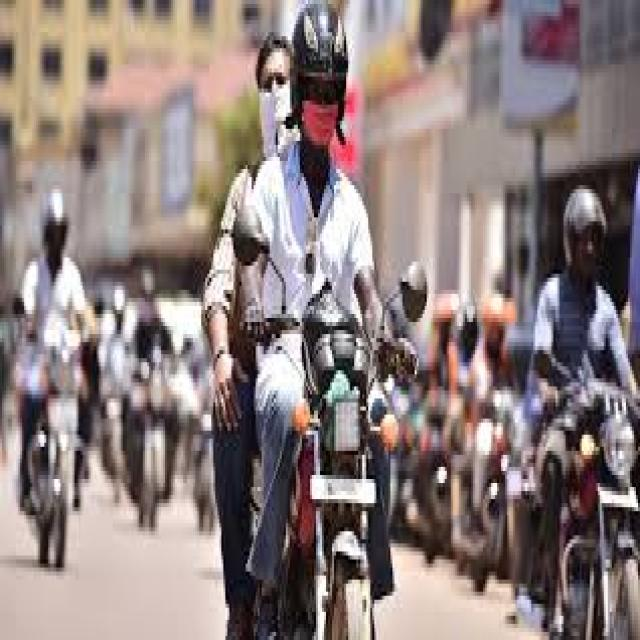bodaboda: (207, 193, 466, 640), (519, 318, 640, 636), (3, 258, 108, 600), (114, 315, 200, 545)
